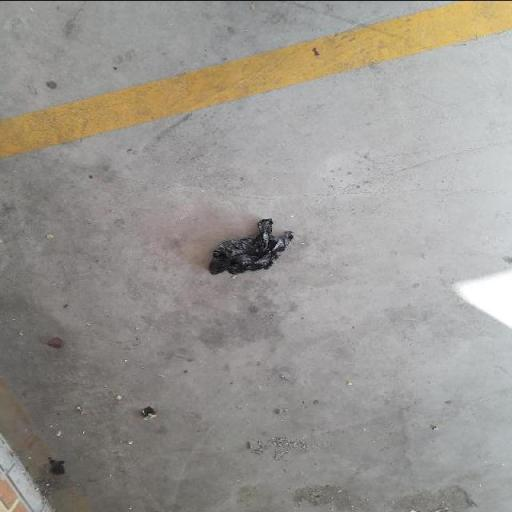plastic-bag: (202, 216, 300, 278)
